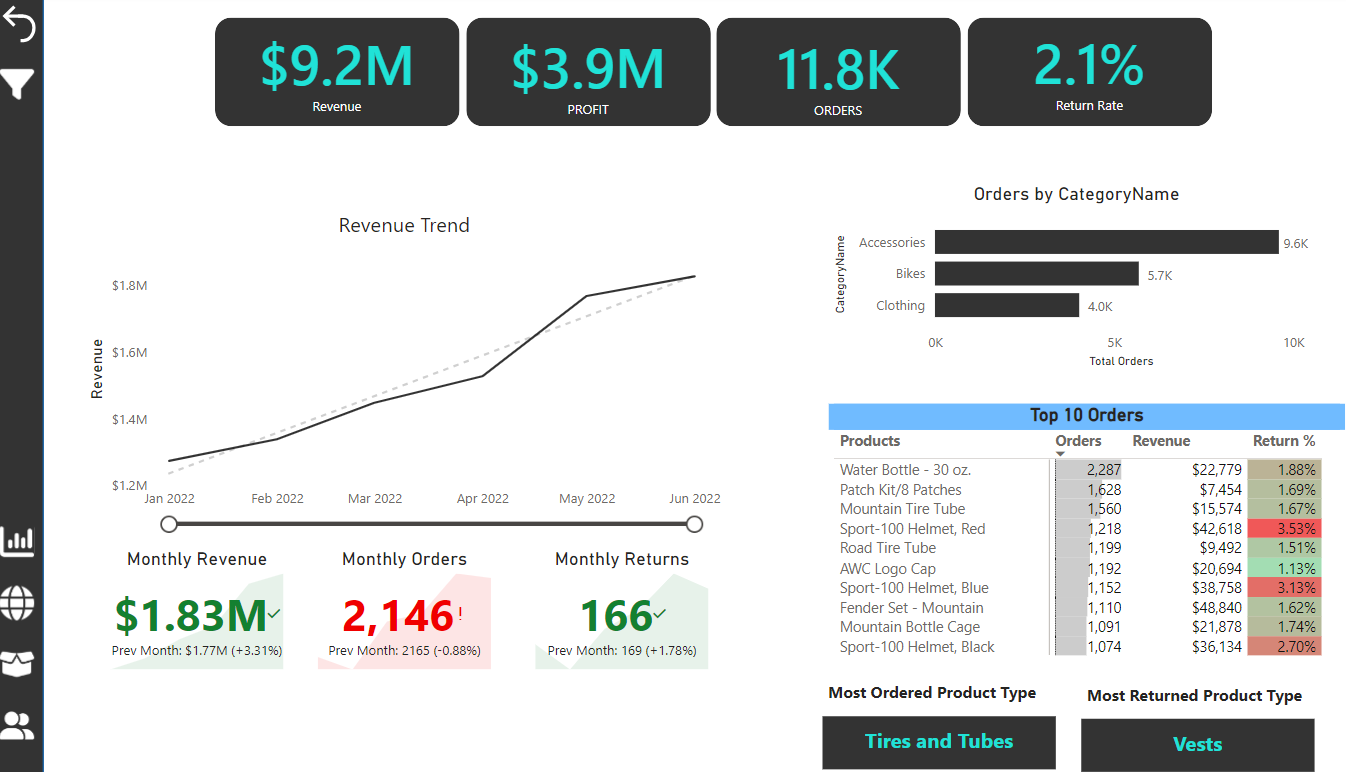

What the dashboard file says about the page in this screenshot:
{"tool":"powerbi","page":{"name":"Executive Dashboard ","canvas":[1280,720],"ordinal":0},"visuals":[{"type":"shape","title":"Lef Nav Background","box":[0,0,45,720],"z":0},{"type":"card","fields":{"Values":["Measure Table.Total Revenue"]},"box":[219.7,12.7,190,113.8],"z":0,"group":"g2"},{"type":"group","id":"g1","title":"KPI Background","box":[202.2,20.3,916.2,100],"z":0,"group":"g3"},{"type":"shape","box":[202.2,20.3,225,100],"z":0,"group":"g1"},{"type":"actionButton","box":[0,482.8,45,40.2],"z":0,"group":"g4"},{"type":"group","id":"g2","title":"KPI Values","box":[219.7,11.5,881.2,118.8],"z":1000,"group":"g3"},{"type":"card","fields":{"Values":["Measure Table.Return Rate"]},"box":[910.9,11.5,190,113.8],"z":1000,"group":"g2"},{"type":"shape","box":[432.6,20.3,225,100],"z":1000,"group":"g1"},{"type":"actionButton","box":[0,539.2,45,40.2],"z":1000,"group":"g4"},{"type":"group","id":"g3","title":"KPI","box":[202.2,11.5,916.6,119.5],"z":2000},{"type":"card","fields":{"Values":["Measure Table.Total Orders"]},"box":[680.5,16.5,190,113.8],"z":2000,"group":"g2"},{"type":"shape","box":[663,20.3,225,100],"z":2000,"group":"g1"},{"type":"actionButton","box":[0,652,45,40.2],"z":2000,"group":"g4"},{"type":"card","fields":{"Values":["Measure Table.Total Profit"]},"box":[450.1,15.3,190,113.8],"z":3000,"group":"g2"},{"type":"shape","box":[893.4,20.3,225,100],"z":3000,"group":"g1"},{"type":"lineChart","title":"Revenue Trend","fields":{"Y":["Measure Table.Total Revenue"],"Category":["Calendar Lookup.Year","Calendar Lookup.Start of Quarter","Calendar Lookup.Start of Month"]},"box":[80.5,197.6,591.7,299.4],"z":3000},{"type":"actionButton","box":[0,595.6,45,40.2],"z":3000,"group":"g4"},{"type":"kpi","title":"Monthly Revenue","fields":{"Indicator":["Measure Table.Total Revenue"],"TrendLine":["Calendar Lookup.Date Hierarchy.Start of Month"],"Goal":["Measure Table.Previous Month Revenue"]},"box":[100.6,507.7,169.2,117.2],"z":4000},{"type":"kpi","title":"Monthly Orders","fields":{"TrendLine":["Calendar Lookup.Date Hierarchy.Start of Month"],"Indicator":["Measure Table.Total Orders"],"Goal":["Measure Table.Previous Month Orders"]},"box":[292.3,507.7,169.2,117.2],"z":5000},{"type":"kpi","title":"Monthly Returns","fields":{"TrendLine":["Calendar Lookup.Date Hierarchy.Start of Month"],"Indicator":["Measure Table.Total Returns"],"Goal":["Measure Table.Previous Month Returns"]},"box":[491.1,507.7,169.2,117.2],"z":6000},{"type":"clusteredBarChart","title":"Orders by CategoryName","fields":{"Category":["Product Categories Lookup.CategoryName"],"Y":["Measure Table.Total Orders"]},"box":[765.7,172.8,455.6,175.1],"z":7000},{"type":"pivotTable","title":"Top 10 Orders","fields":{"Rows":["Product Lookup.ProductName"],"Values":["Measure Table.Total Orders","Measure Table.Total Revenue","Measure Table.Return Rate"]},"box":[765.7,375.2,474.6,241.4],"z":8000},{"type":"card","fields":{"Values":["Min(Product Subcategories Lookup.SubcategoryName)"]},"box":[761,662.7,214.2,48.5],"z":9000},{"type":"textbox","box":[761,624.9,214.2,48.5],"z":10000},{"type":"card","fields":{"Values":["Min(Product Subcategories Lookup.SubcategoryName)"]},"box":[998.2,664.9,214.2,48.5],"z":11000},{"type":"textbox","box":[997.6,628.4,263.9,48.5],"z":12000},{"type":"actionButton","box":[0,0,45,53.3],"z":13000},{"type":"group","id":"g4","title":"Navigation Button ","box":[0,482.8,45,209.5],"z":14000},{"type":"actionButton","box":[0,61.5,45,40.2],"z":15000}]}

Visuals, with their boxes on the page's 1280x720 design canvas (x1, y1, x2, y2). These are canvas units, not pixel positions in the 1346x772 screenshot, which may show the page scaled, cropped or inside an application window:
"Lef Nav Background" shape: 0/0/45/720
card - Measure Table.Total Revenue: 220/13/410/126
"KPI Background" group: 202/20/1118/120
shape: 202/20/427/120
actionButton: 0/483/45/523
"KPI Values" group: 220/12/1101/130
card - Measure Table.Return Rate: 911/12/1101/125
shape: 433/20/658/120
actionButton: 0/539/45/579
"KPI" group: 202/12/1119/131
card - Measure Table.Total Orders: 680/16/870/130
shape: 663/20/888/120
actionButton: 0/652/45/692
card - Measure Table.Total Profit: 450/15/640/129
shape: 893/20/1118/120
"Revenue Trend" lineChart: 80/198/672/497
actionButton: 0/596/45/636
"Monthly Revenue" kpi: 101/508/270/625
"Monthly Orders" kpi: 292/508/462/625
"Monthly Returns" kpi: 491/508/660/625
"Orders by CategoryName" clusteredBarChart: 766/173/1221/348
"Top 10 Orders" pivotTable: 766/375/1240/617
card - Min(Product Subcategories Lookup.SubcategoryName): 761/663/975/711
textbox: 761/625/975/673
card - Min(Product Subcategories Lookup.SubcategoryName): 998/665/1212/713
textbox: 998/628/1262/677
actionButton: 0/0/45/53
"Navigation Button " group: 0/483/45/692
actionButton: 0/62/45/102
